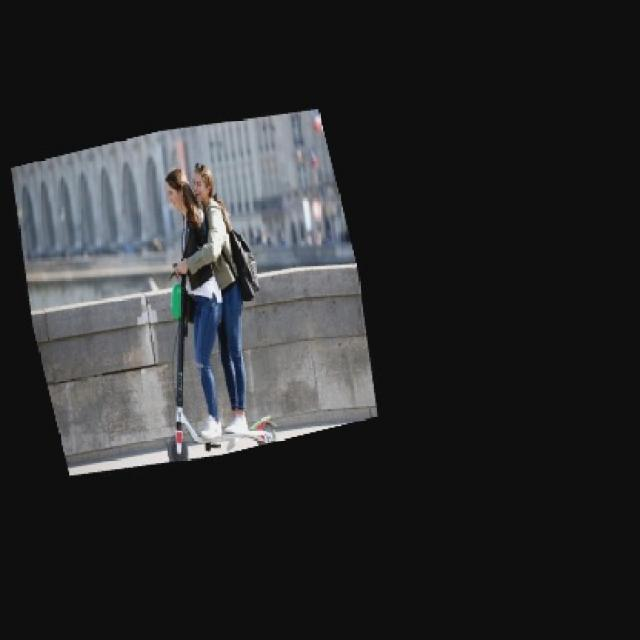bare_head: (156, 172, 203, 219), (187, 161, 222, 209)
human: (188, 165, 258, 434), (161, 169, 223, 441)
kickboard: (157, 415, 287, 459)
